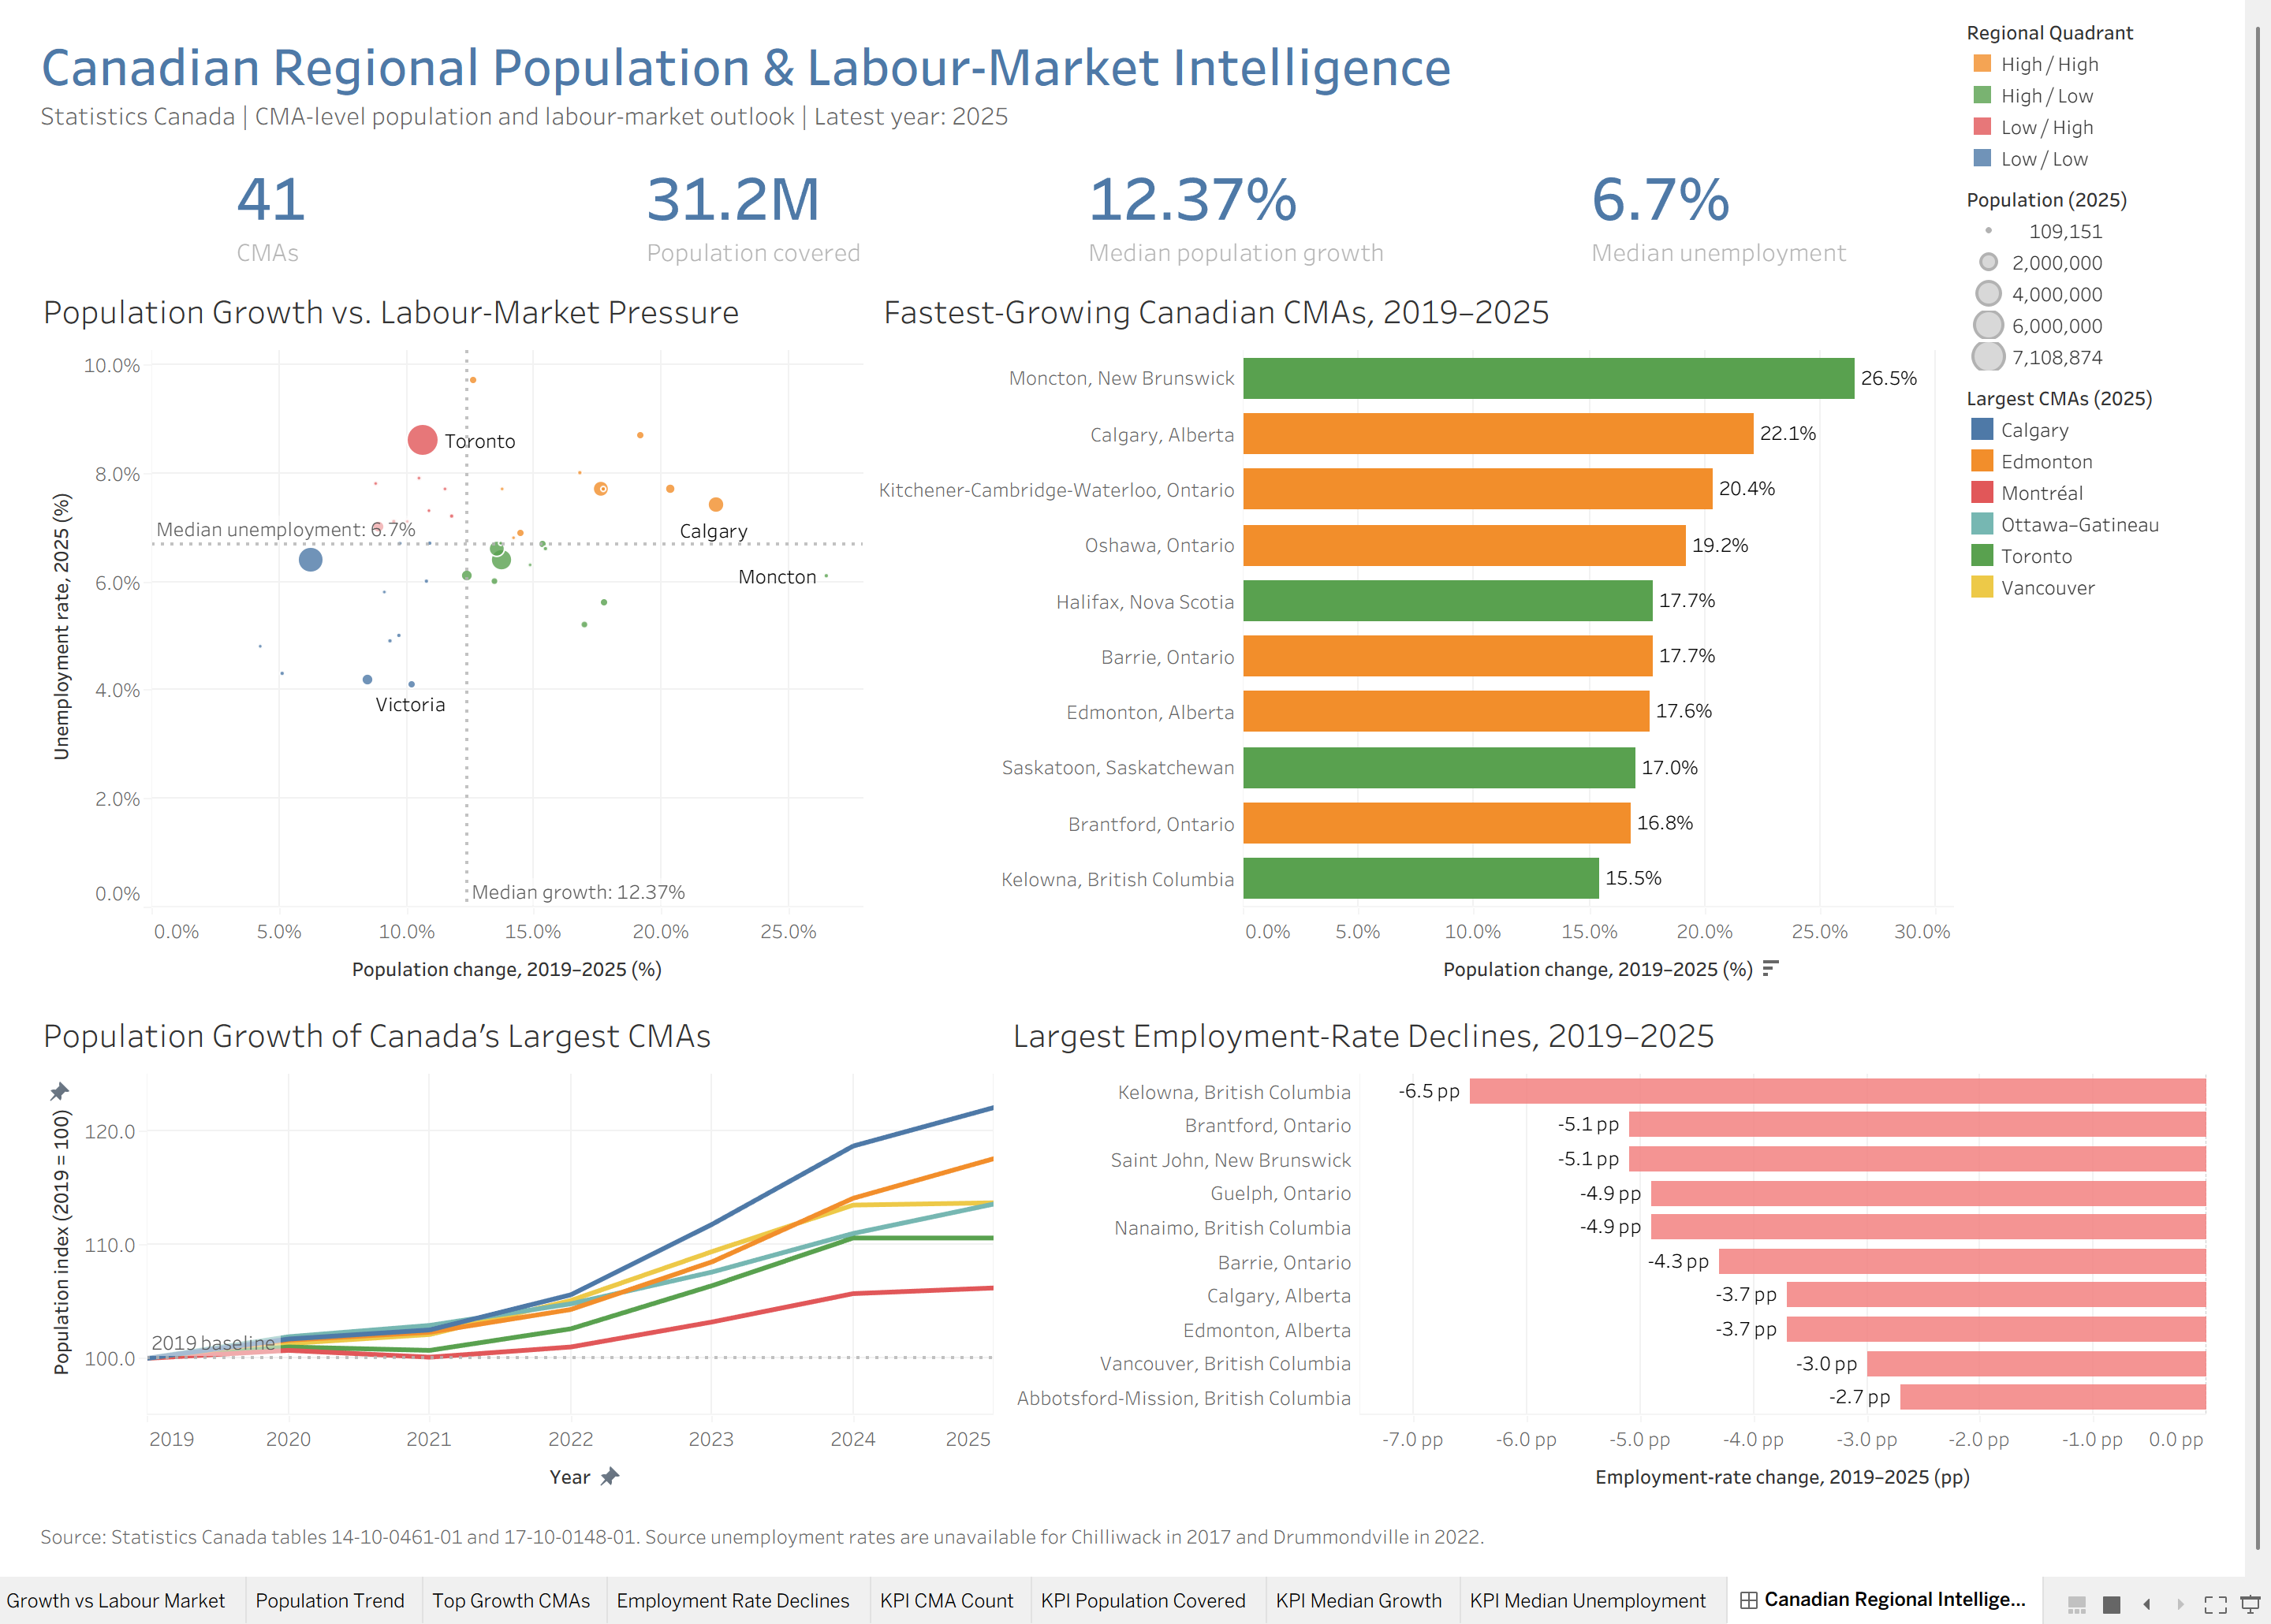

The page's visual inventory and layout, read from the dashboard file:
{"tool":"tableau","page":{"name":"Canadian Regional Intelligence","canvas":[1400,1000],"ordinal":0},"visuals":[{"type":"text","box":[8,8,1224,87.4]},{"type":"legend","title":"Growth vs Labour Market","param":"[federated.0yaitpo0hllbug12w9t5p0p0ganq].[none:REGIONAL_QUADRANT:nk]","box":[1232,8,160,106]},{"type":"worksheet","title":"KPI CMA Count","mark":"Text","rows":["Calculation_1318074181218306"],"cols":["Calculation_1318074181218306"],"box":[8,95.4,306,79.3]},{"type":"worksheet","title":"KPI Population Covered","mark":"Text","rows":["Calculation_1318074181218306"],"cols":["Calculation_1318074181218306"],"box":[314,95.4,306,79.3]},{"type":"worksheet","title":"KPI Median Growth","mark":"Text","rows":["Calculation_1318074181218306"],"cols":["Calculation_1318074181218306"],"box":[620,95.4,306,79.3]},{"type":"worksheet","title":"KPI Median Unemployment","mark":"Text","rows":["Calculation_1318074181218306"],"cols":["Calculation_1318074181218306"],"box":[926,95.4,306,79.3]},{"type":"legend","title":"Growth vs Labour Market","param":"[federated.0yaitpo0hllbug12w9t5p0p0ganq].[avg:POPULATION:qk]","box":[1232,114,160,126]},{"type":"worksheet","title":"Growth vs Labour Market","mark":"Circle","rows":["UNEMPLOYMENT_RATE_PCT"],"cols":["POPULATION_CHANGE_SINCE_2019_PCT"],"box":[8,174.7,533,459.3]},{"type":"worksheet","title":"Top Growth CMAs","mark":"Automatic","rows":["CMA_NAME"],"cols":["POPULATION_CHANGE_SINCE_2019_PCT"],"box":[541,174.7,691,459.3]},{"type":"legend","title":"Population Trend","param":"[federated.0irn2w51jg70ew176q4i20trs98k].[none:Calculation_1318074200207363:nk]","box":[1232,240,160,146]},{"type":"worksheet","title":"Population Trend","mark":"Automatic","rows":["POPULATION_INDEX_2019_EQ_100"],"cols":["REF_YEAR"],"box":[8,634,615,322]},{"type":"worksheet","title":"Employment Rate Declines","mark":"Bar","rows":["CMA_NAME"],"cols":["EMPLOYMENT_RATE_CHANGE_SINCE_2019_PP"],"box":[623,634,769,322]},{"type":"text","box":[8,956,1384,36]}]}

Visuals, with their boxes on the page's 1400x1000 design canvas (x1, y1, x2, y2). These are canvas units, not pixel positions in the 2271x1624 screenshot, which may show the page scaled, cropped or inside an application window:
text: rect(8, 8, 1232, 95)
"Growth vs Labour Market" legend: rect(1232, 8, 1392, 114)
"KPI CMA Count" worksheet (Text marks): rect(8, 95, 314, 175)
"KPI Population Covered" worksheet (Text marks): rect(314, 95, 620, 175)
"KPI Median Growth" worksheet (Text marks): rect(620, 95, 926, 175)
"KPI Median Unemployment" worksheet (Text marks): rect(926, 95, 1232, 175)
"Growth vs Labour Market" legend: rect(1232, 114, 1392, 240)
"Growth vs Labour Market" worksheet (Circle marks): rect(8, 175, 541, 634)
"Top Growth CMAs" worksheet: rect(541, 175, 1232, 634)
"Population Trend" legend: rect(1232, 240, 1392, 386)
"Population Trend" worksheet: rect(8, 634, 623, 956)
"Employment Rate Declines" worksheet (Bar marks): rect(623, 634, 1392, 956)
text: rect(8, 956, 1392, 992)
